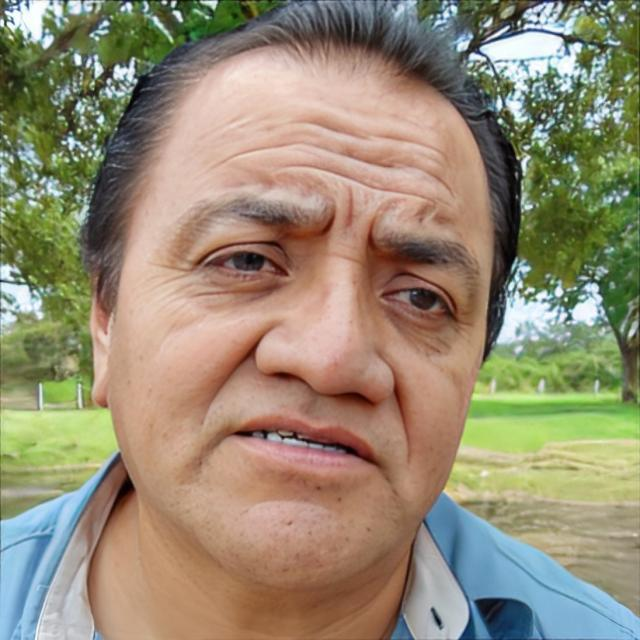sad: (109, 35, 494, 593)
